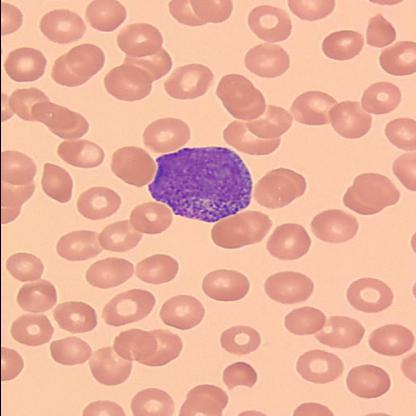Promyelocyte: (146, 145, 250, 223)
